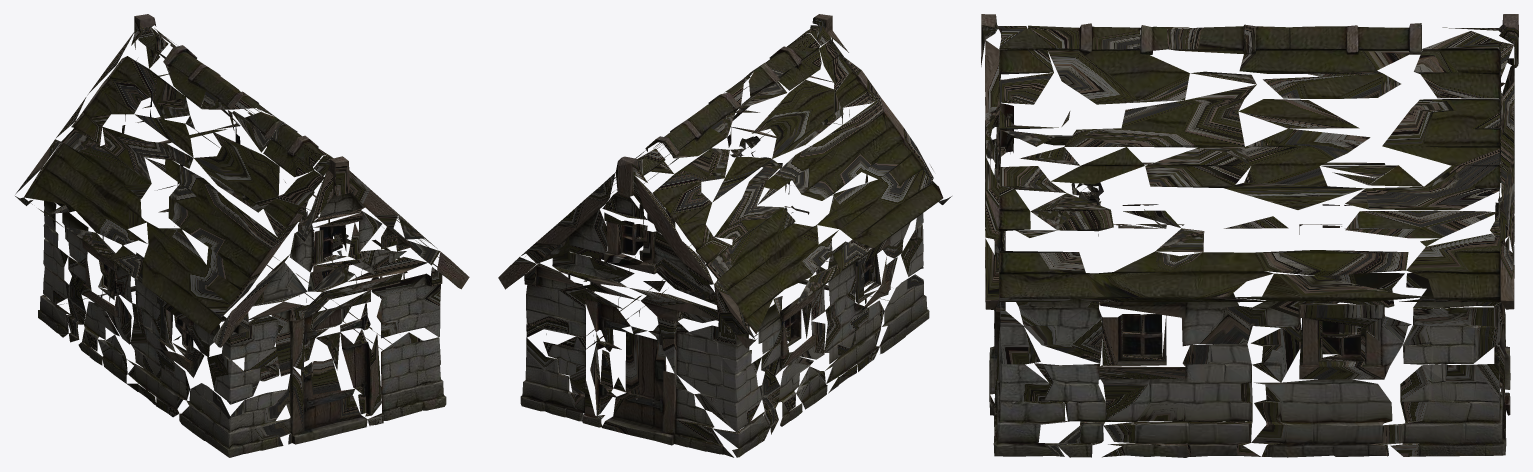
Rendered from bld_house_npc_d_a_LOD1.glb.
3 views of the same model, side by side, from view 1: azimuth 30°, elevation 25°; view 2: azimuth 150°, elevation 25°; view 3: azimuth 270°, elevation 25° (orthographic). The views are drawn at different scales.
Parts seen in each view (by area): view 1: geometry_0; view 2: geometry_0; view 3: geometry_0.
Boxes of the visible parts, bbox=[...] form: geometry_0: bbox=[15, 14, 469, 457]; geometry_0: bbox=[498, 14, 951, 457]; geometry_0: bbox=[981, 14, 1518, 457].
Bounding box in the file's own units: 4.89 × 5 × 6.61.
Materials: 1 (1 with a texture image).
